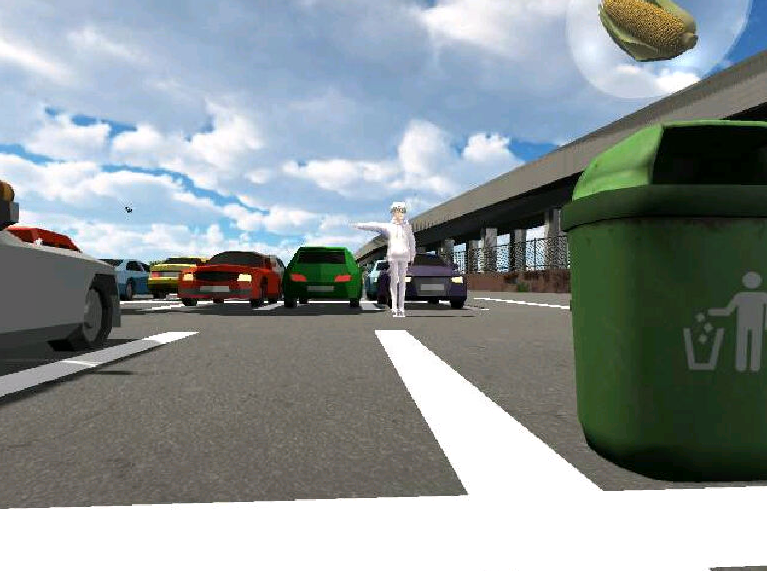singleP_left: (352, 198, 422, 318)
